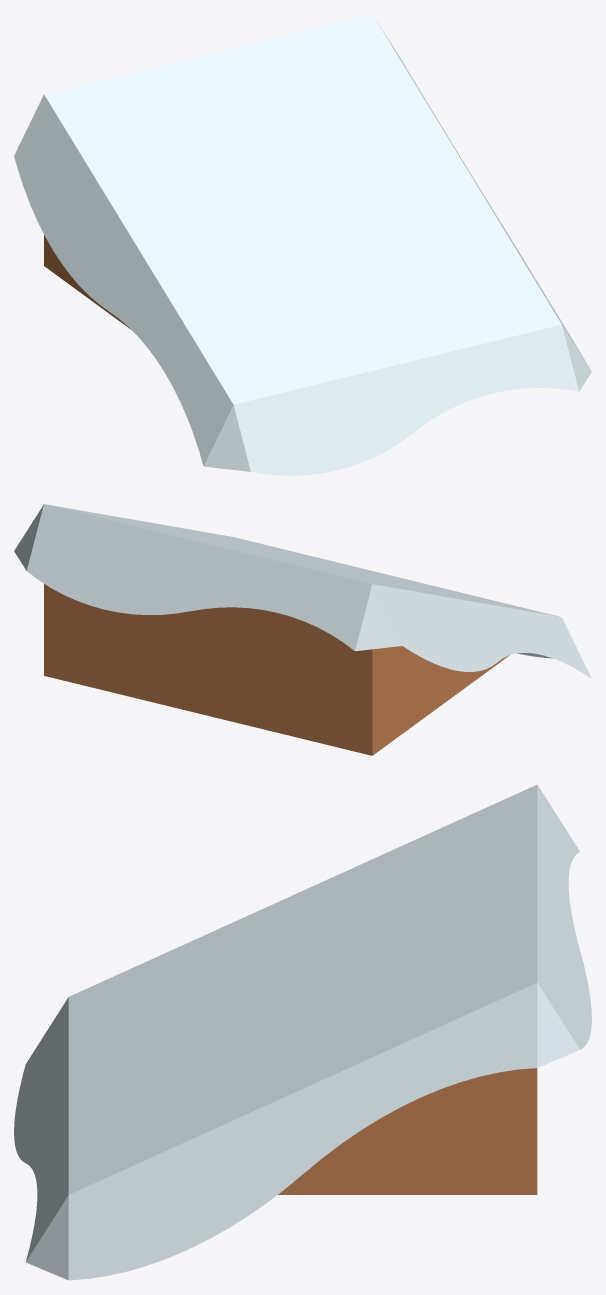
The model's file is blockSnowSlopeHalf.dae.
3 renders of one model, top to bottom at view 1: azimuth 30°, elevation 25°; view 2: azimuth 150°, elevation 25°; view 3: azimuth 270°, elevation 25°, orthographic. The views are drawn at different scales.
Visible parts, largest first — view 1: blockSnowSlopeHalf; view 2: blockSnowSlopeHalf; view 3: blockSnowSlopeHalf.
Part boxes in pixels (box(x1,y1,x2,y2)): blockSnowSlopeHalf: box(14, 14, 591, 475); blockSnowSlopeHalf: box(14, 504, 591, 755); blockSnowSlopeHalf: box(14, 784, 591, 1280).
Bounding box in the file's own units: 1.23 × 0.7018 × 1.23.
